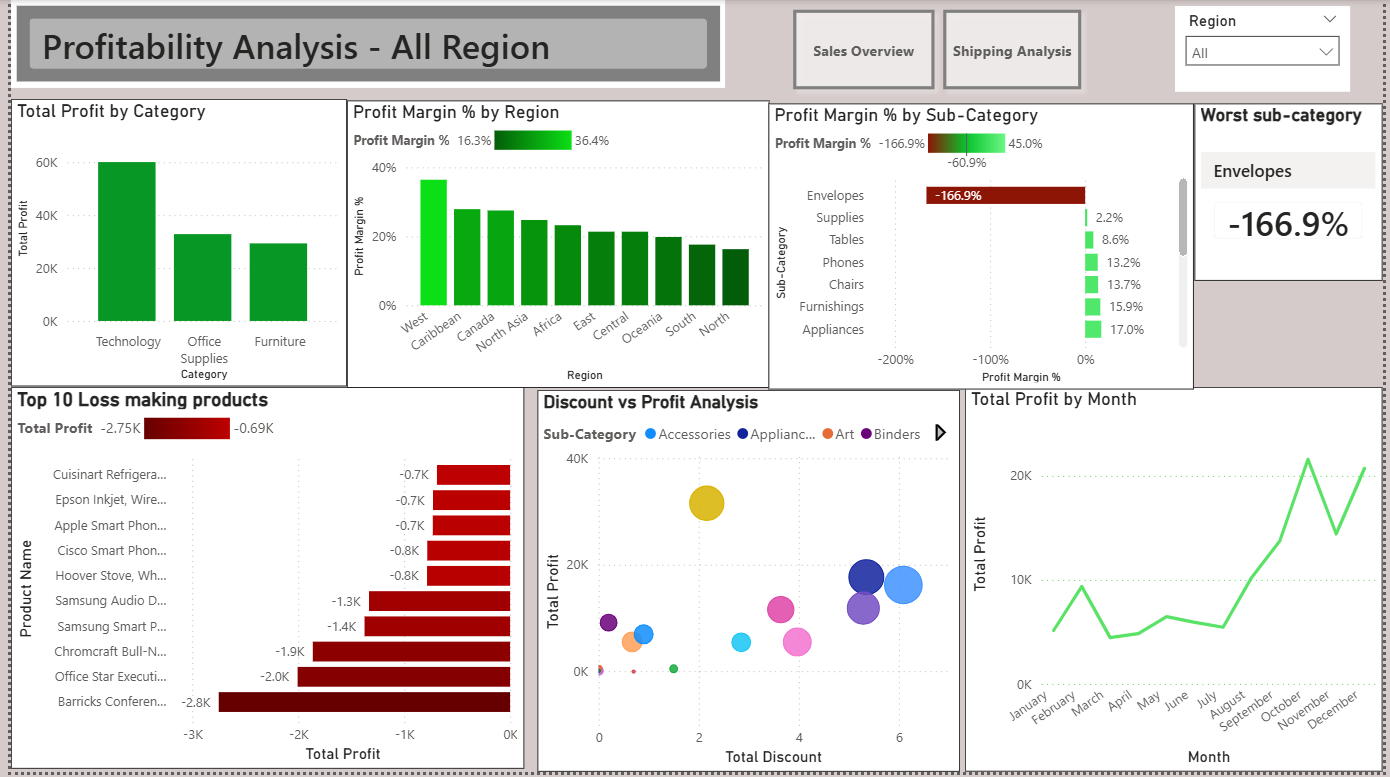

What the dashboard file says about the page in this screenshot:
{"tool":"powerbi","page":{"name":"Profitability analysis","canvas":[1280,720],"ordinal":1},"visuals":[{"type":"columnChart","fields":{"Category":["product.Category"],"Y":["fact_sales.Total Profit"]},"box":[0,92.4,313.4,268],"z":0},{"type":"clusteredBarChart","title":"Top 10 Loss making products","fields":{"Category":["product.Product Name"],"Y":["fact_sales.Total Profit"]},"box":[0,360.4,478.5,355.8],"z":1000},{"type":"lineChart","fields":{"Category":["fact_sales.Order Date.Variation.Date Hierarchy.Month"],"Y":["fact_sales.Total Profit"]},"box":[890.4,360.4,389.2,358.9],"z":2000},{"type":"columnChart","fields":{"Category":["fact_sales.Region"],"Y":["fact_sales.Profit Margin %"]},"box":[313.4,93.9,393.7,268],"z":3000},{"type":"clusteredBarChart","fields":{"Category":["product.Sub-Category"],"Y":["fact_sales.Profit Margin %"]},"box":[707.1,96.9,396.7,266.5],"z":4000},{"type":"cardVisual","title":"Worst sub-category ","fields":{"Data":["fact_sales.Profit Margin %"],"Rows":["product.Sub-Category"]},"box":[1103.9,96.9,175.6,165],"z":5000},{"type":"scatterChart","title":"Discount vs Profit Analysis","fields":{"X":["fact_sales.Total Discount"],"Y":["fact_sales.Total Profit"],"Series":["product.Sub-Category"],"Size":["fact_sales.Total Sales"]},"box":[490.6,363.4,393.7,355.8],"z":6000},{"type":"actionButton","box":[720.8,0,149.9,92.4],"z":7000},{"type":"actionButton","box":[860.1,0,146.9,92.4],"z":8000},{"type":"cardVisual","fields":{"Data":["fact_sales.profit dashboard"]},"box":[0,0,666.3,81.8],"z":9000},{"type":"slicer","fields":{"Values":["fact_sales.Region"]},"box":[1085.7,6.1,163.5,80.3],"z":9001}]}

Visuals, with their boxes in screenshot pixels (x1, y1, x2, y2), scaled from the page's 1280x720 canvas onto the 1390x777 screenshot:
columnChart - product.Category x fact_sales.Total Profit: select_region(0, 100, 340, 389)
"Top 10 Loss making products" clusteredBarChart: select_region(0, 389, 520, 773)
lineChart - fact_sales.Order Date.Variation.Date Hierarchy.Month x fact_sales.Total Profit: select_region(967, 389, 1389, 776)
columnChart - fact_sales.Region x fact_sales.Profit Margin %: select_region(340, 101, 768, 391)
clusteredBarChart - product.Sub-Category x fact_sales.Profit Margin %: select_region(768, 105, 1199, 392)
"Worst sub-category " cardVisual: select_region(1199, 105, 1389, 283)
"Discount vs Profit Analysis" scatterChart: select_region(533, 392, 960, 776)
actionButton: select_region(783, 0, 946, 100)
actionButton: select_region(934, 0, 1094, 100)
cardVisual - fact_sales.profit dashboard: select_region(0, 0, 724, 88)
slicer - fact_sales.Region: select_region(1179, 7, 1357, 93)
